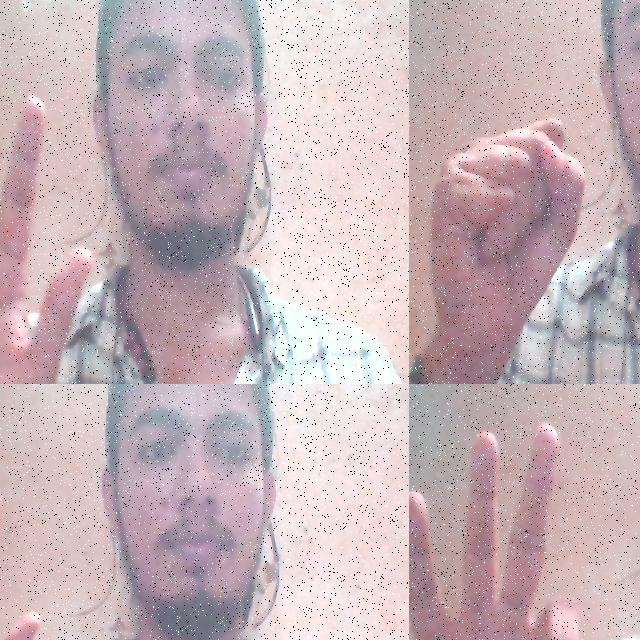Hello: (0, 46, 103, 384)
No: (413, 111, 598, 378)
Please: (409, 416, 614, 640)
